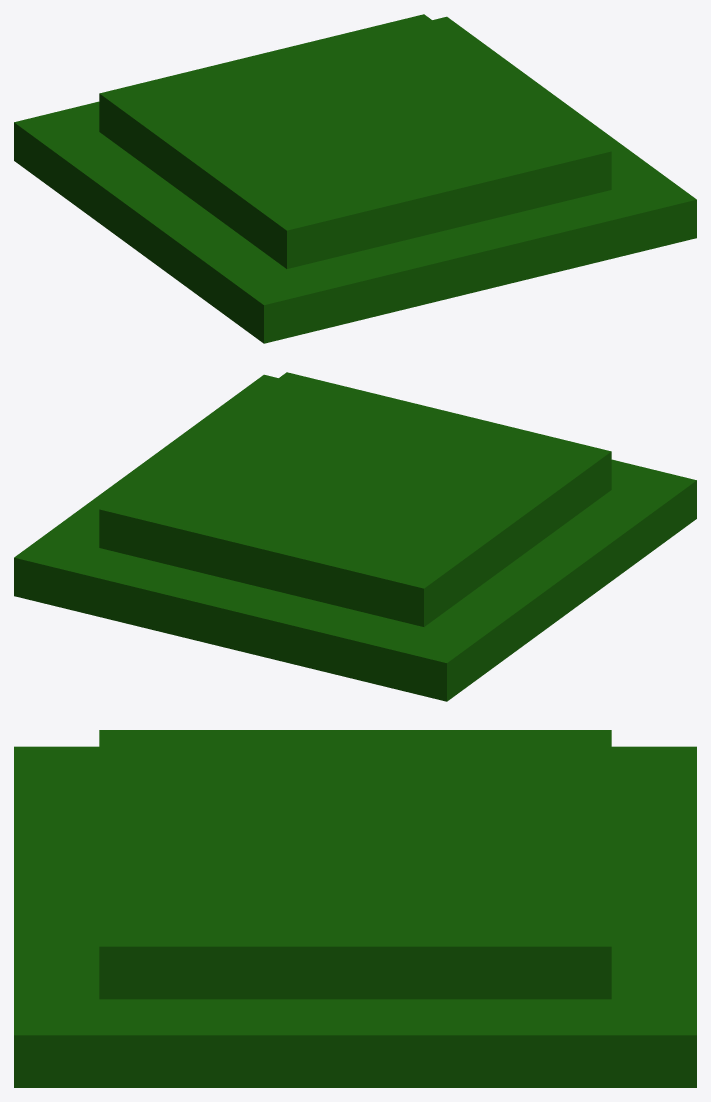
Rendered from croc.glb.
3 renders of one model, top to bottom at view 1: azimuth 30°, elevation 25°; view 2: azimuth 150°, elevation 25°; view 3: azimuth 270°, elevation 25°, orthographic. The views are drawn at different scales.
Visible parts, largest first — view 1: Cube; view 2: Cube; view 3: Cube.
Boxes of the visible parts, box(x1,y1,x2,y2) form: Cube: box(14, 14, 696, 343); Cube: box(14, 372, 696, 701); Cube: box(14, 730, 696, 1087).
Size of the model in its own units: 1 by 0.17 by 1.
